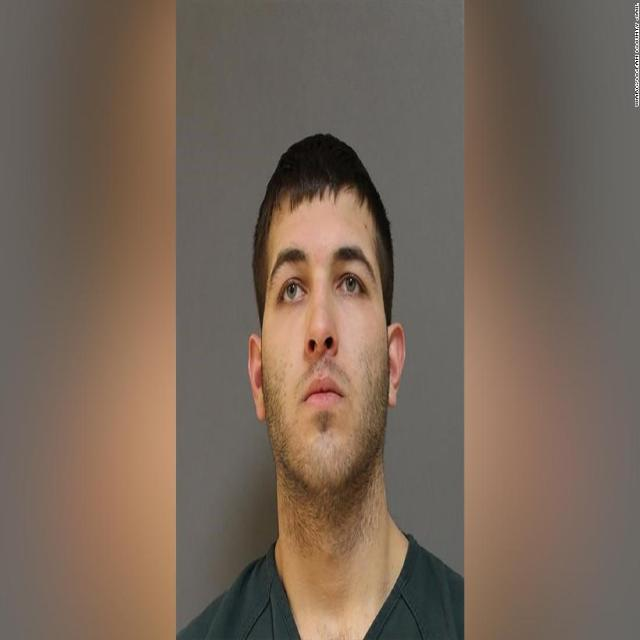mobile_phonerotation: (176, 129, 465, 637)
